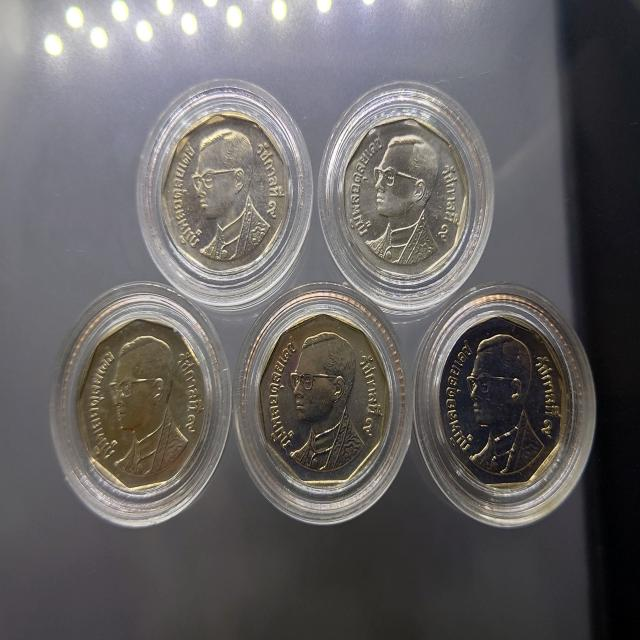5 Bath: (437, 307, 576, 495), (255, 311, 394, 491), (76, 316, 211, 499), (158, 109, 296, 276), (342, 116, 473, 282)
